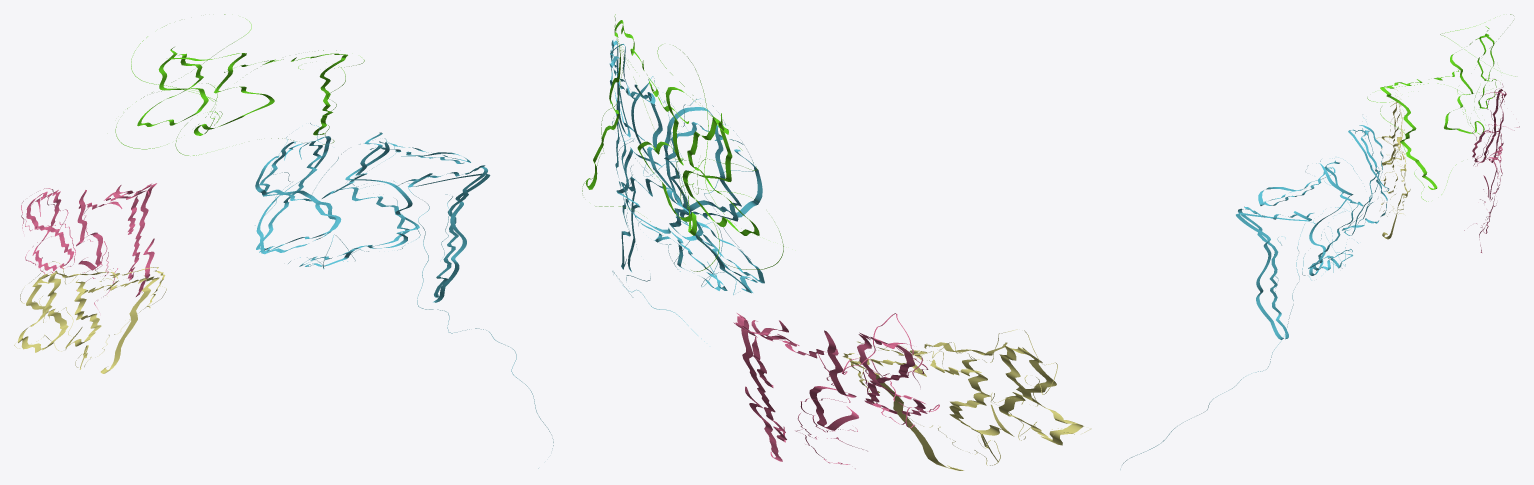
The picture shows the model from 3 angles, left to right: view 1: azimuth 30°, elevation 25°; view 2: azimuth 150°, elevation 25°; view 3: azimuth 270°, elevation 25°; orthographic projection. The views are drawn at different scales.
Bounding box in the file's own units: 1.24 × 1.03 × 0.9913.
